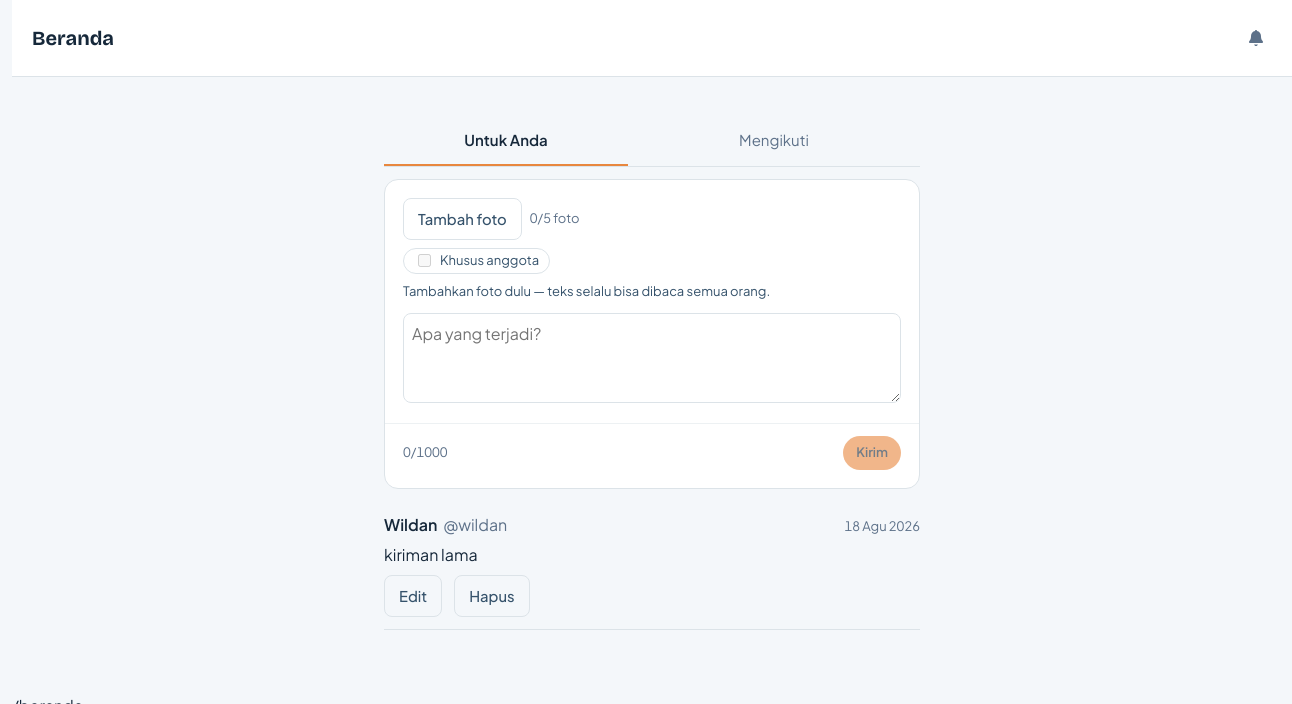
it: BerandaPage — signed in › shows a just-created post exactly once after switching tabs and back
Check: the text "kiriman lama" is shown, box [384, 544, 478, 565]
Type "kiriman baru" into the text box labelled "Apa yang terjadi?" at (652, 358), box [403, 313, 901, 403]
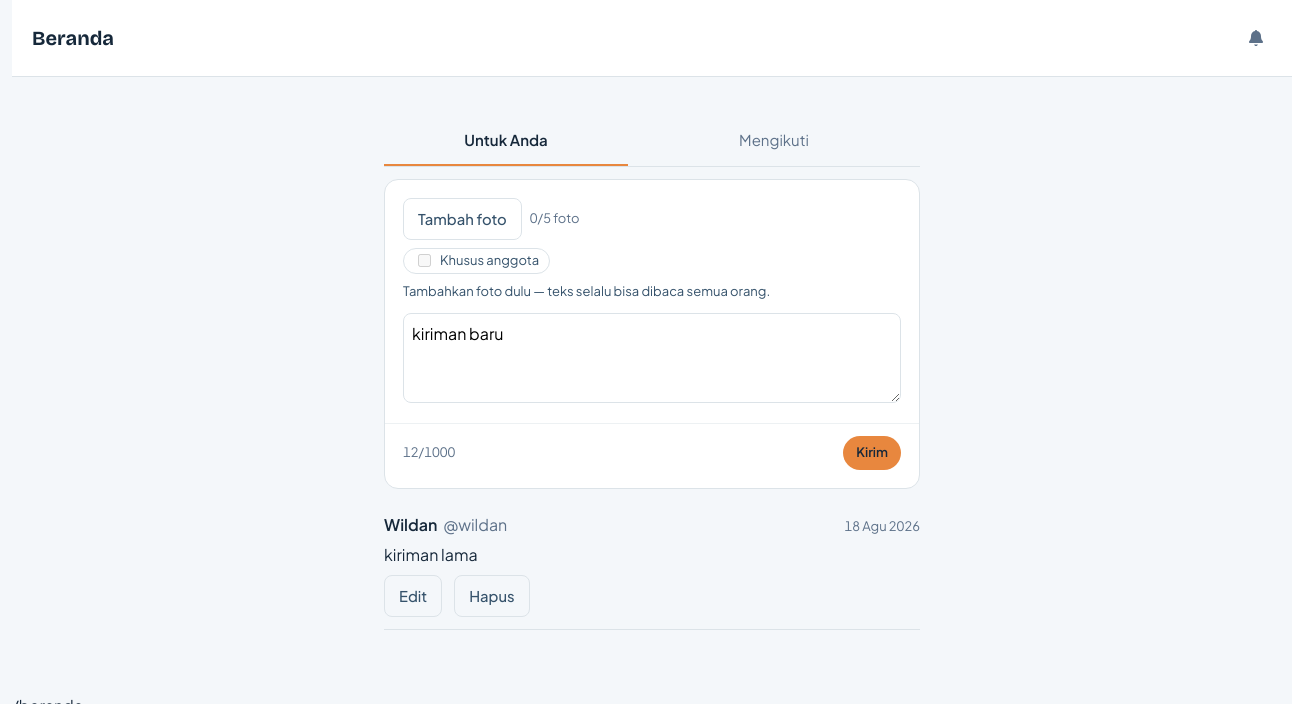
Click the button "Kirim" at (872, 453), box [843, 436, 901, 470]
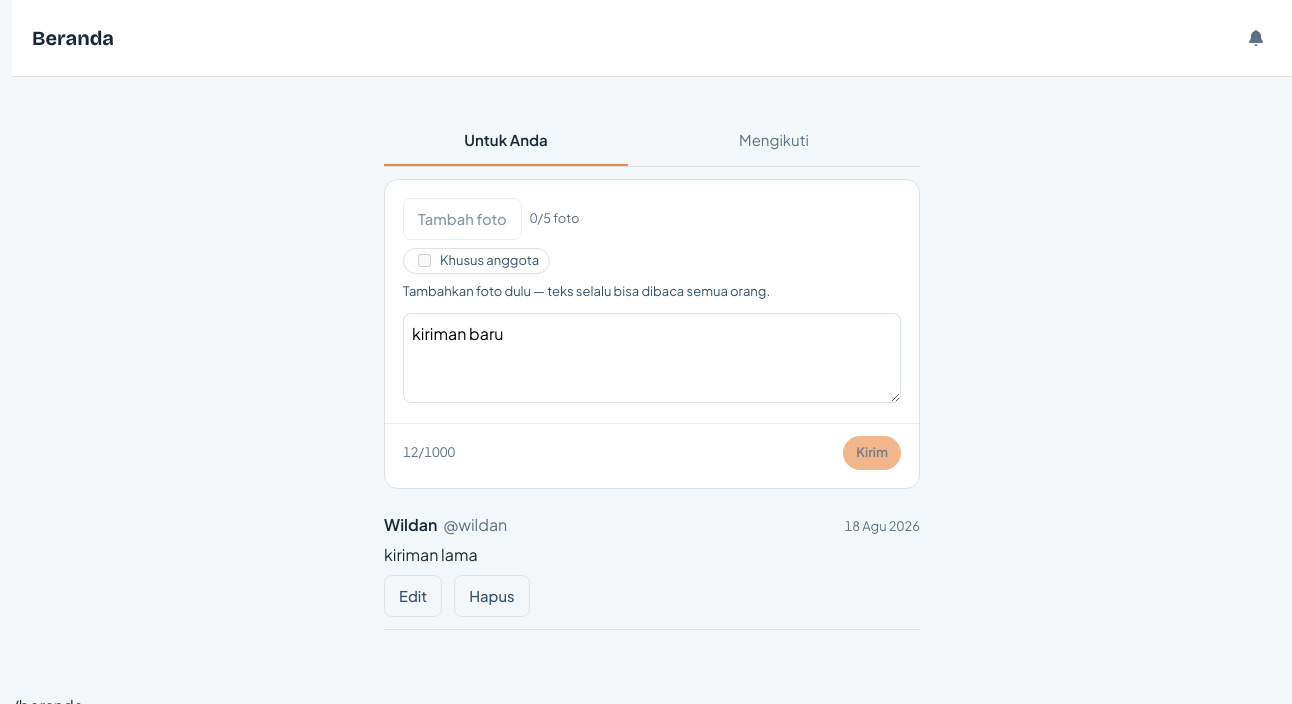
Click the button "Mengikuti" at (774, 147), box [652, 129, 896, 166]
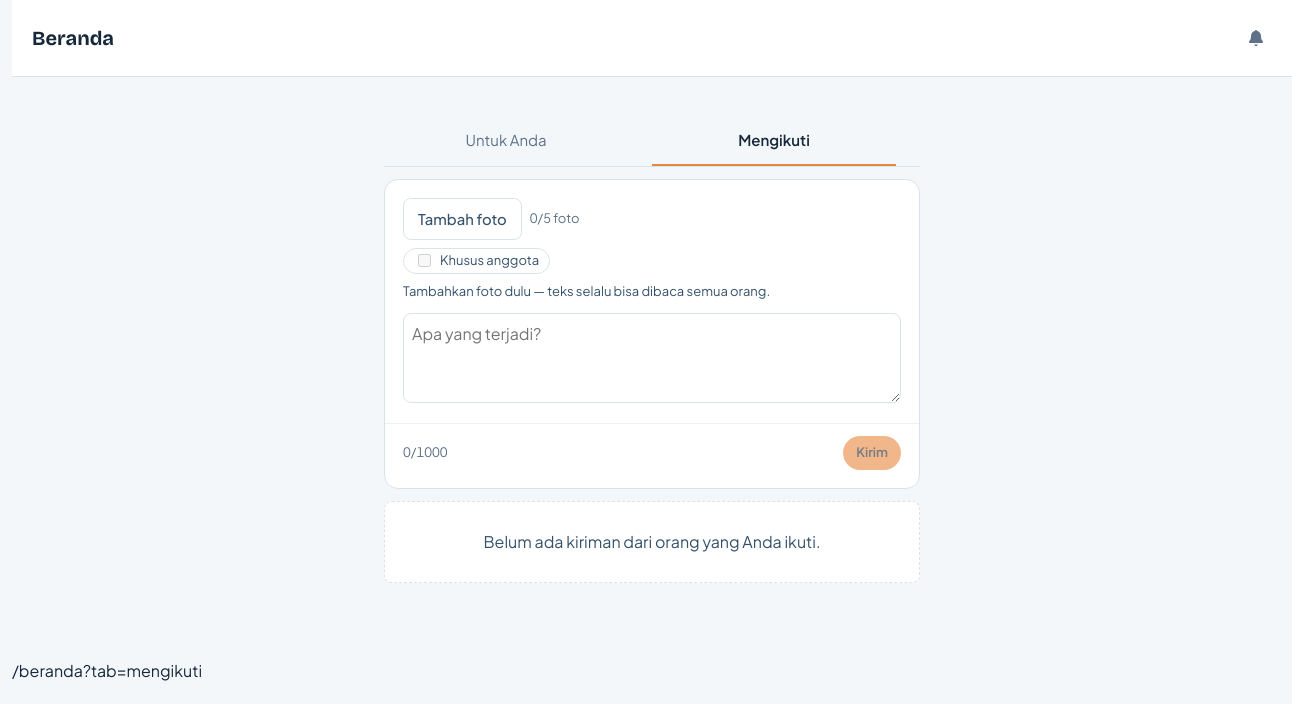
Check: the text "Belum ada kiriman dari orang yang Anda ikuti." is shown, box [384, 501, 920, 583]
Click the button "Untuk Anda" at (506, 147), box [384, 129, 628, 166]
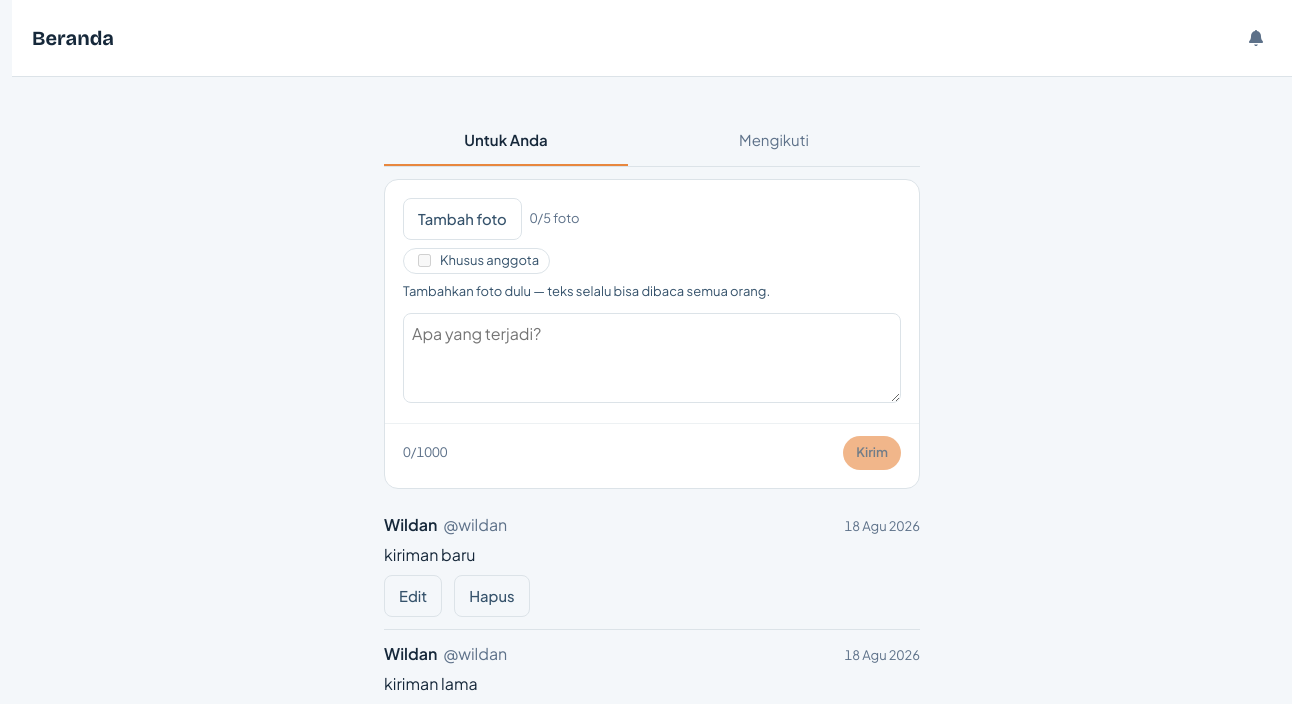
Check: the text "kiriman lama" is shown, box [384, 673, 478, 694]
Check: the text "kiriman baru" is shown once, box [384, 544, 476, 565]
